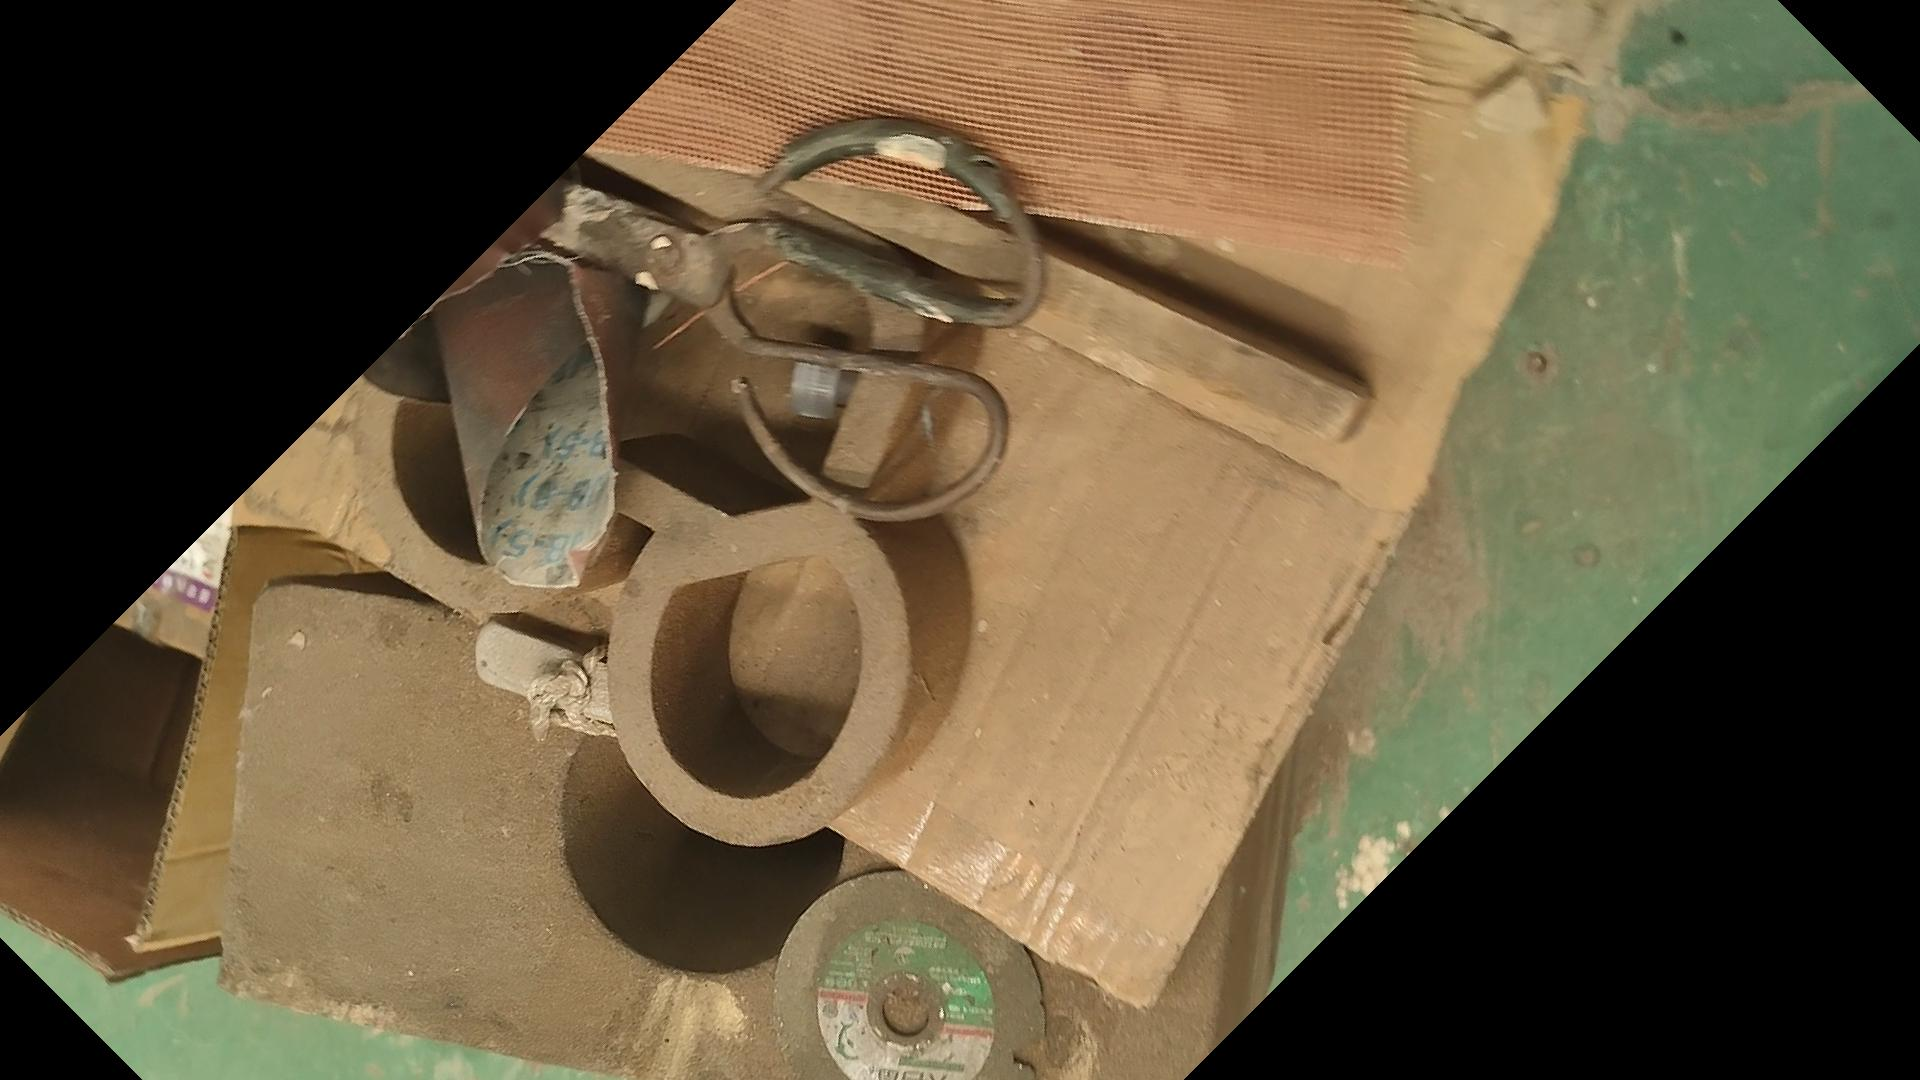pouring hole: (560, 675, 847, 975)
